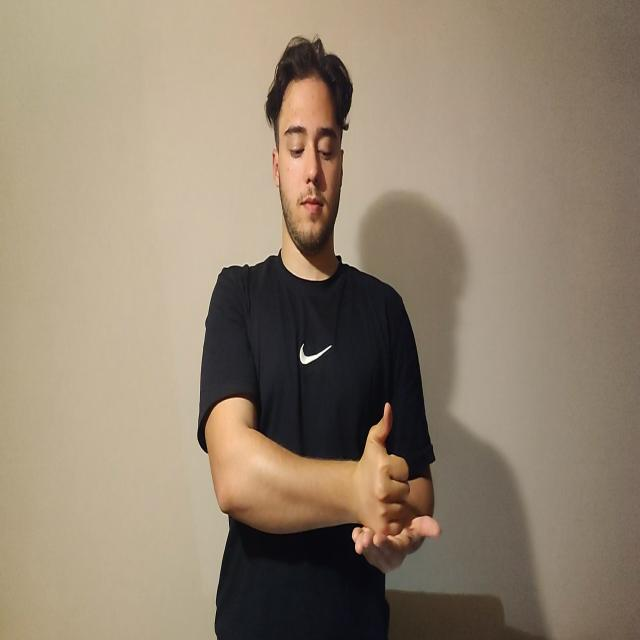help: (345, 406, 442, 577)
